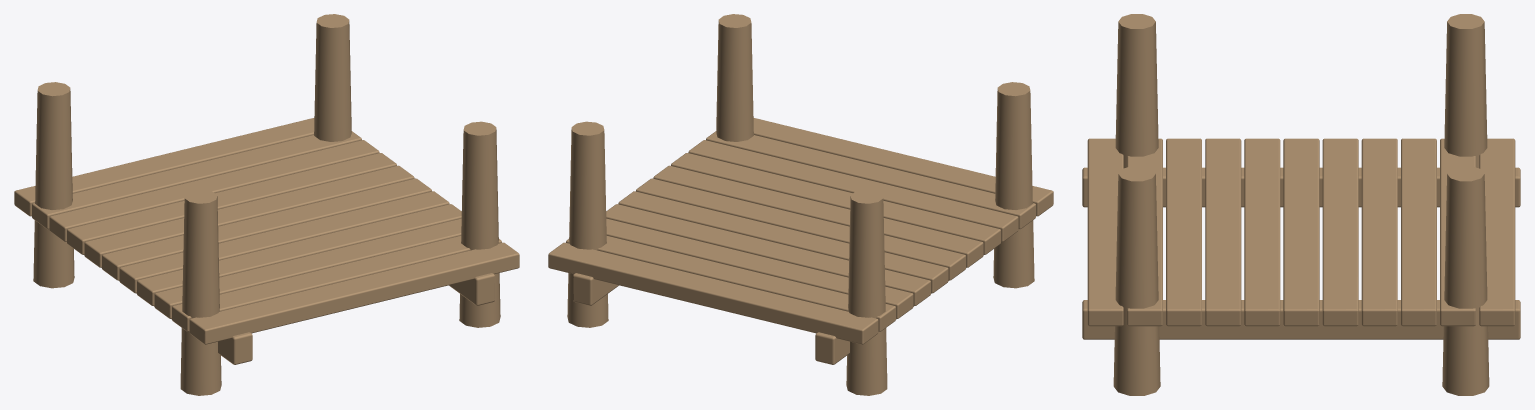
File: dock_section.glb
The picture shows the model from 3 angles, left to right: view 1: azimuth 30°, elevation 25°; view 2: azimuth 150°, elevation 25°; view 3: azimuth 270°, elevation 25°; orthographic projection. The views are drawn at different scales.
Parts seen in each view (by area): view 1: dock_section; view 2: dock_section; view 3: dock_section.
Part boxes in pixels (x1,y1,x2,y2): dock_section: (14,14,519,395); dock_section: (548,14,1053,395); dock_section: (1082,14,1520,395).
Size of the model in its own units: 2.6 by 1.5 by 2.8.
